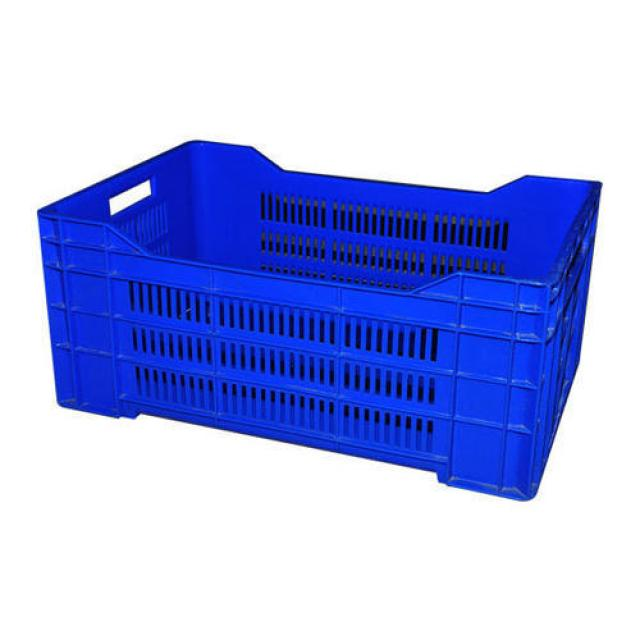basket: (12, 119, 601, 504)
